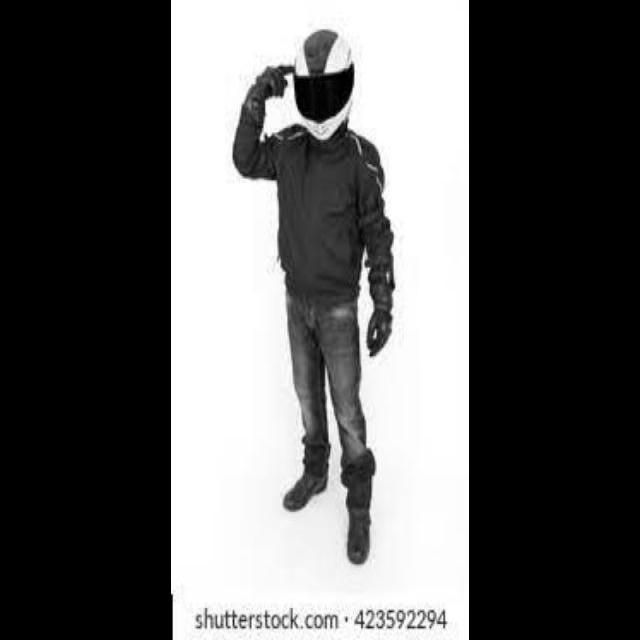5_casco: (279, 22, 366, 154)
